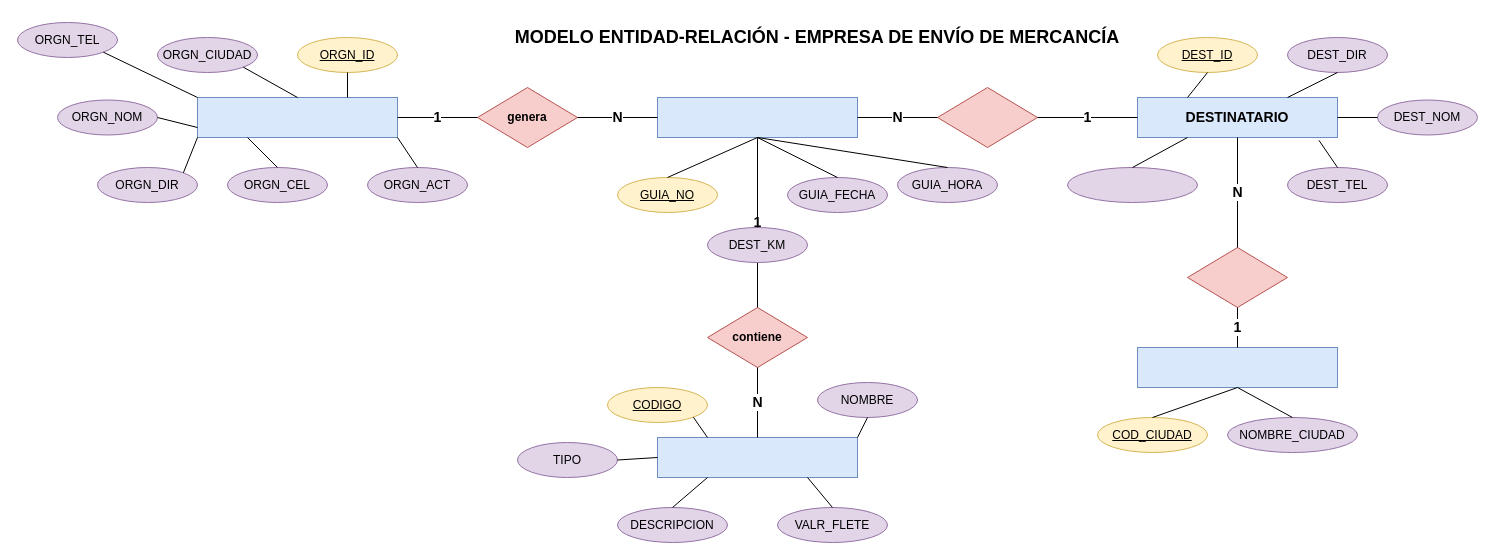
Image size: 1495x560. Some labels were removed from this diagram. The box of each missing label's shape, as (x1, y1, x2, y2) in pixels:
CIUDAD: (1136, 346, 1338, 388)
DEST_COD_CIUDAD: (1066, 166, 1198, 202)
EMPRESA_ORIGEN: (196, 96, 398, 138)
envía a: (936, 86, 1038, 148)
GUIA: (656, 96, 858, 138)
PAQUETE: (656, 436, 858, 478)
ubicada en: (1186, 246, 1288, 308)
